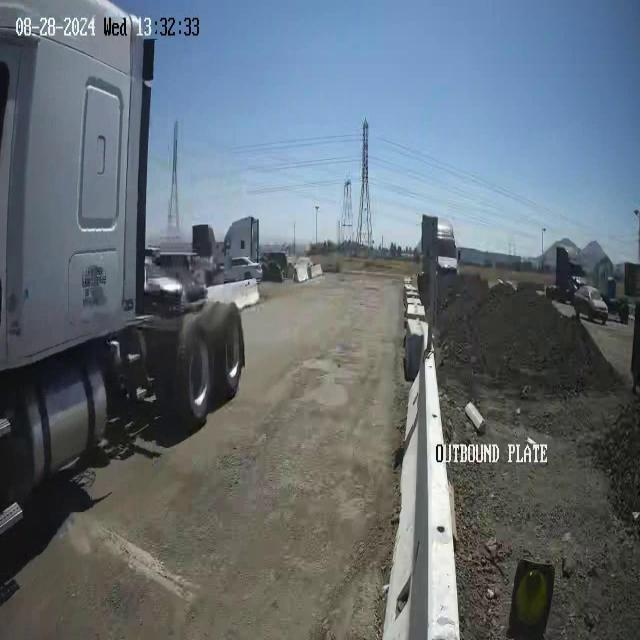BOBTAIL: (1, 1, 247, 534)
